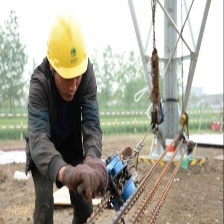helmet: (44, 14, 91, 82)
person: (24, 11, 108, 224)
